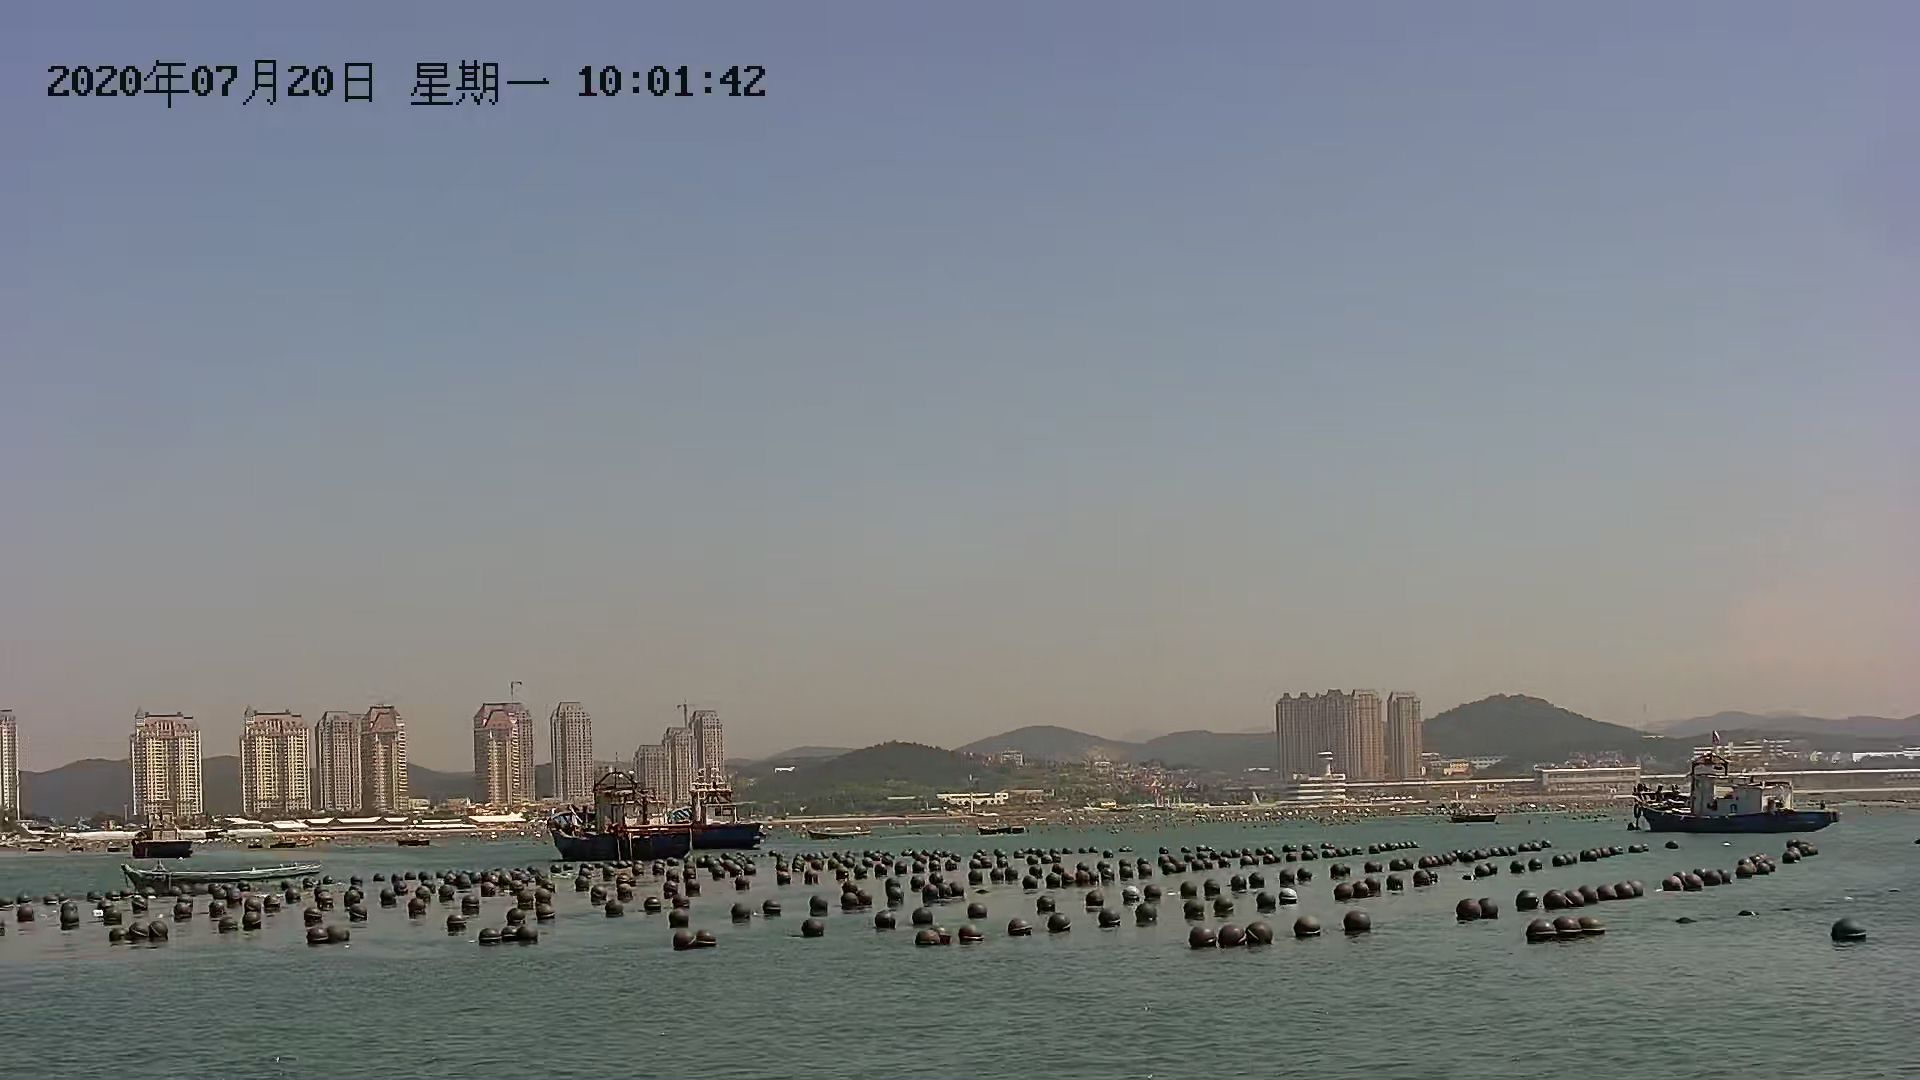ball: (1829, 913, 1874, 948), (1338, 907, 1377, 940), (1244, 915, 1278, 949), (1447, 891, 1481, 923), (1294, 911, 1328, 942), (1215, 920, 1249, 949), (1183, 923, 1218, 951), (725, 899, 760, 926), (953, 918, 982, 945), (1557, 913, 1586, 940), (1528, 915, 1555, 945), (692, 926, 724, 951), (1009, 911, 1039, 935), (913, 924, 943, 945), (148, 916, 167, 948), (1048, 913, 1073, 936), (240, 913, 266, 935), (477, 927, 502, 949), (512, 926, 537, 948), (605, 894, 625, 922), (671, 927, 695, 949), (215, 913, 239, 935), (305, 928, 328, 949), (1095, 907, 1118, 928), (407, 897, 429, 920), (799, 920, 825, 936), (448, 913, 465, 936)
boat: (111, 861, 338, 889), (125, 823, 199, 861), (1444, 804, 1502, 827)
ship: (1626, 745, 1844, 837), (549, 798, 704, 861), (669, 785, 771, 865)
